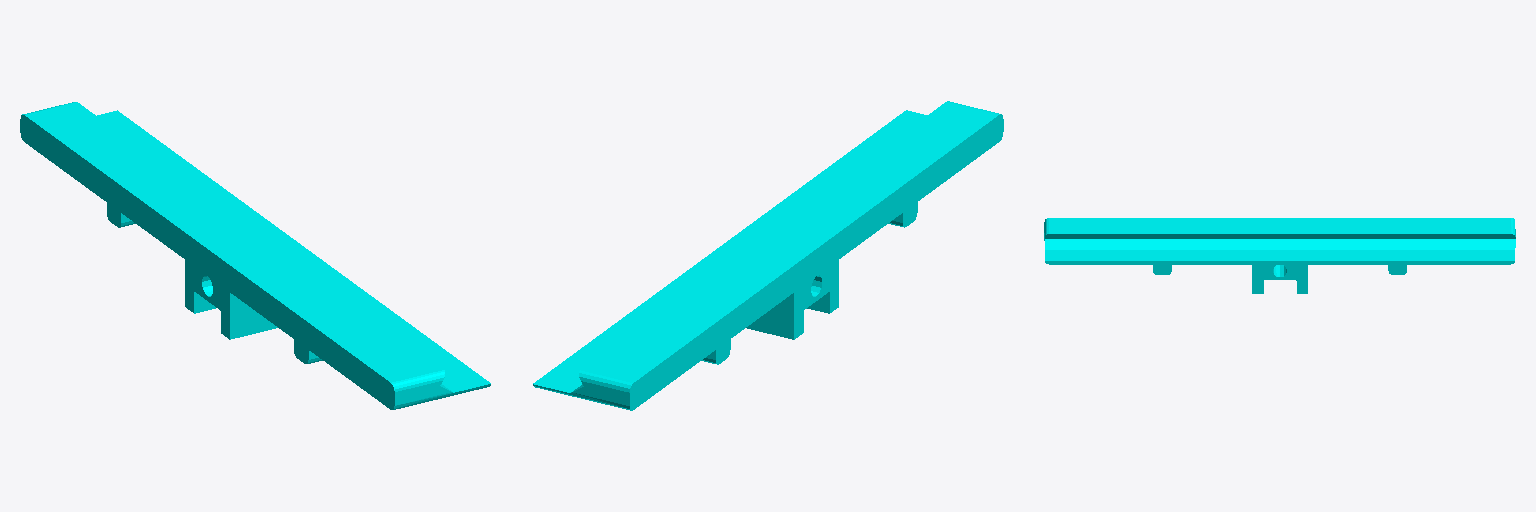
URDF robot description (Kia):
<?xml version="1.0"?>
<robot name="Kia">

    <link name="Kia">
        <visual>
            <origin rpy="0.0 0.0 0.0" xyz="0.0 0.0 0.0"/>
            <geometry>
                <mesh filename="package://kia_gd/meshes/KIA_CAD.stl" scale="0.01 0.01 0.01"/>
            </geometry>
        </visual>
    </link>

    <link name="Deslizador">
        <visual>
            <origin rpy="1.57 0.0 -1.57" xyz="1.0 1.65 0.33"/>
            <geometry>
                <mesh filename="package://kia_gd/meshes/Deslizador.stl" scale="0.01 0.01 0.01"/>
            </geometry>
            <material name="Cyan">
                <color rgba="0 1.0 1.0 1.0"/>
            </material>
        </visual>
    </link>

    <joint name="Kia_Deslizador" type="prismatic">
        <parent link = "Kia"/>
        <child link = "Deslizador"/>
        <origin xyz="0 0.0 0.0" rpy="0 0 0" />
        <axis xyz="1 0 0"/>
        <limit lower="0.0" upper="1.4" effort="100.0" velocity="0.5"/>
    </joint>

</robot>

--- Render facts (derived) ---
3 views of the same robot in one strip: view 1: azimuth 30°, elevation 25°; view 2: azimuth 150°, elevation 25°; view 3: azimuth 270°, elevation 25° (orthographic).
Robot: Kia — 2 links, 1 joints (1 prismatic); root link Kia; default pose: all joints at 0.
Visible links, largest first — view 1: Deslizador; view 2: Deslizador; view 3: Deslizador.
Link boxes in pixels (left/top/right/bottom): Deslizador: left=20, top=102, right=490, bottom=409; Deslizador: left=533, top=101, right=1003, bottom=410; Deslizador: left=1044, top=218, right=1515, bottom=293.
Size in the robot's own frame: 0.1508 by 1 by 0.1101 metres.
1 mesh visuals loaded from 2 distinct referenced files (1 binary STL); not drawn: 1 (file found but could not be loaded).
